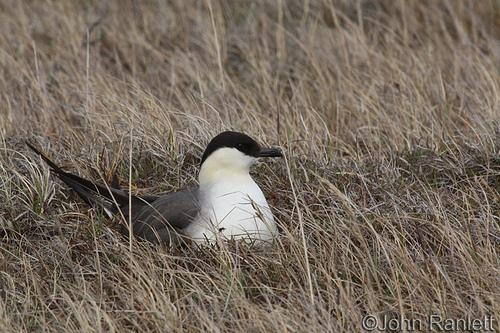bird: (35, 128, 286, 251)
